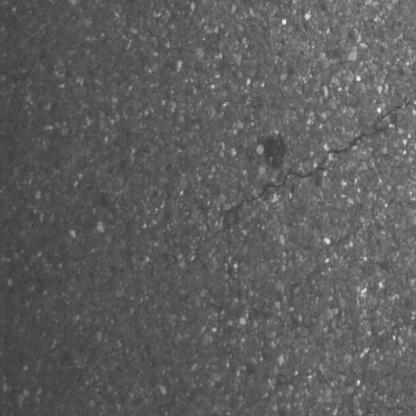Cracks: (228, 60, 416, 220)
